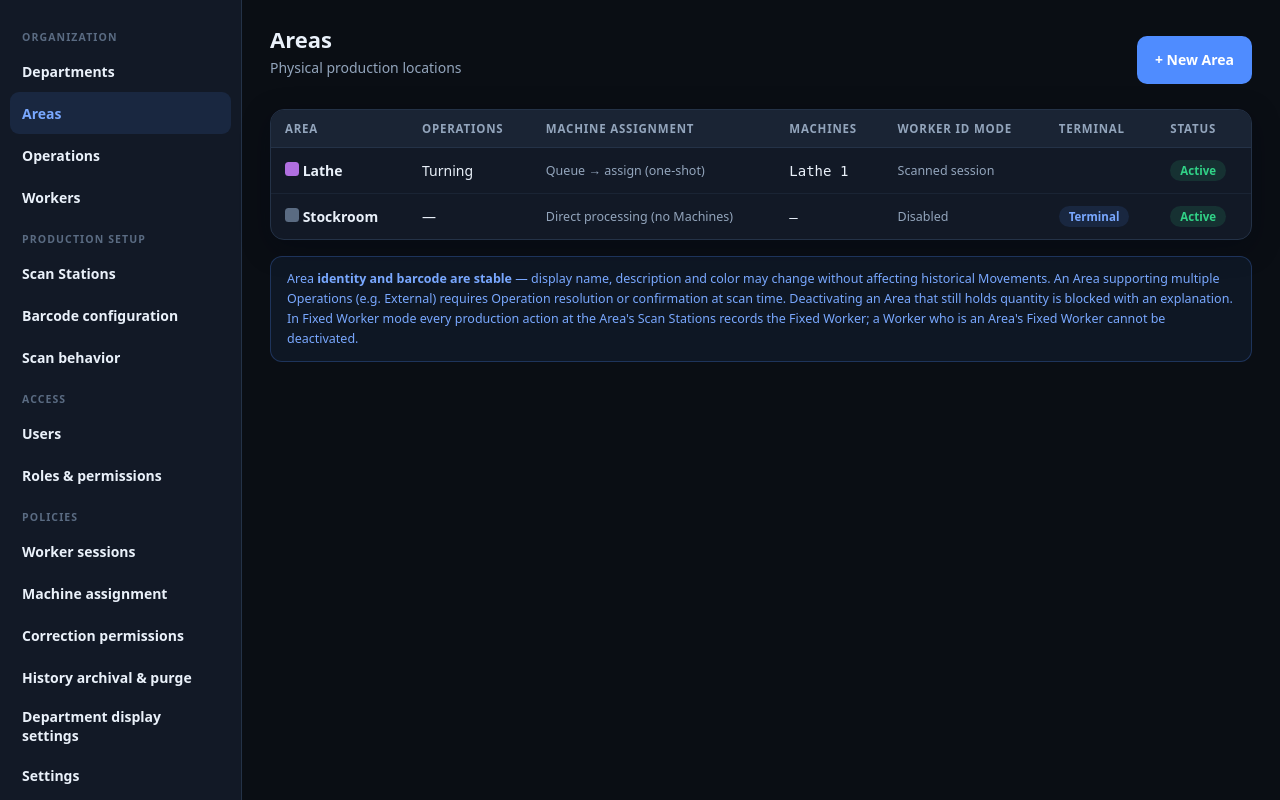
an Area already in Scanned session keeps that option and saves it unchanged
The width and height of the screenshot is (1280, 800).
Click the button with aria-label "Edit Lathe" at (340, 170), box [285,161,394,180]
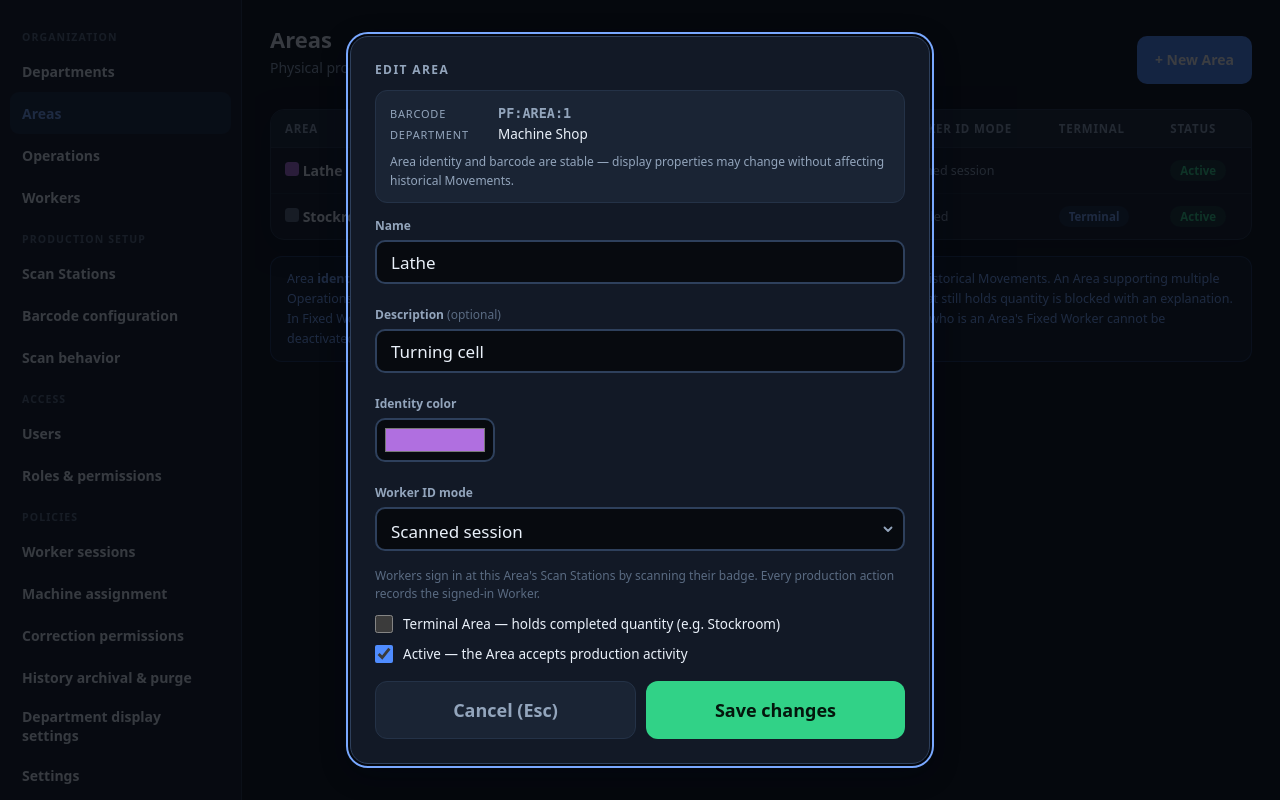
Now the dropdown labelled "Worker ID mode" shows "Scanned session", box [375,507,905,551]
Click the button "Save changes" at (776, 710), box [646,681,905,739]
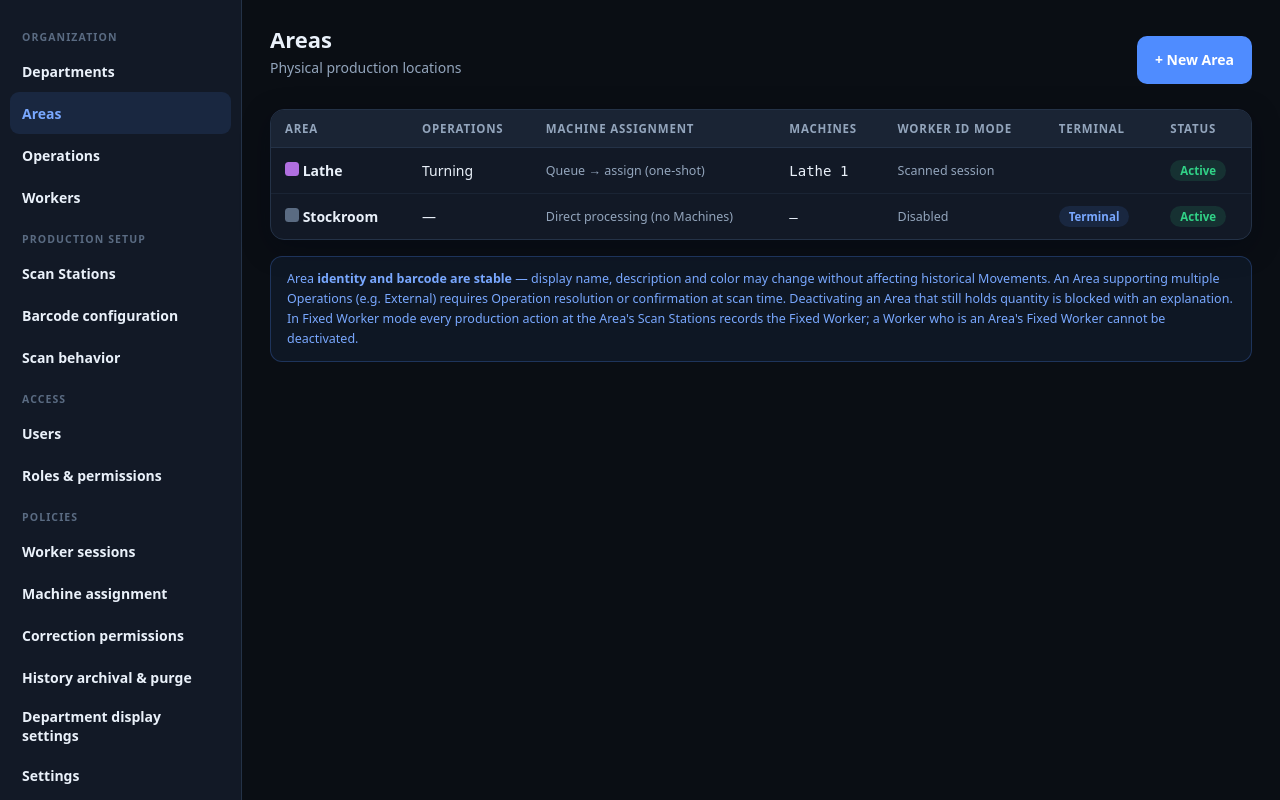
Now the dialog is gone
